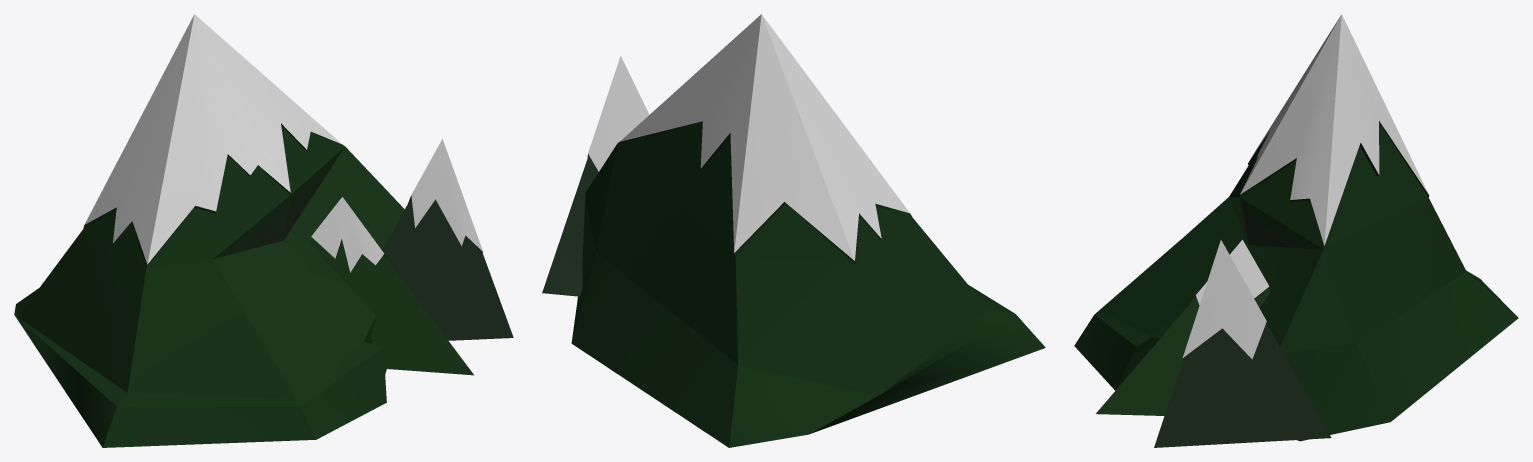
Rendered from c_sierra.fbx.
The picture shows the model from 3 angles, left to right: view 1: azimuth 30°, elevation 25°; view 2: azimuth 150°, elevation 25°; view 3: azimuth 270°, elevation 25°; orthographic projection. The views are drawn at different scales.
Visible parts, largest first — view 1: c_sierra; view 2: c_sierra; view 3: c_sierra.
Boxes of the visible parts, bbox=[...] form: c_sierra: bbox=[14, 14, 513, 447]; c_sierra: bbox=[542, 14, 1045, 447]; c_sierra: bbox=[1074, 14, 1518, 447].
Size of the model in its own units: 340 by 263 by 315.
